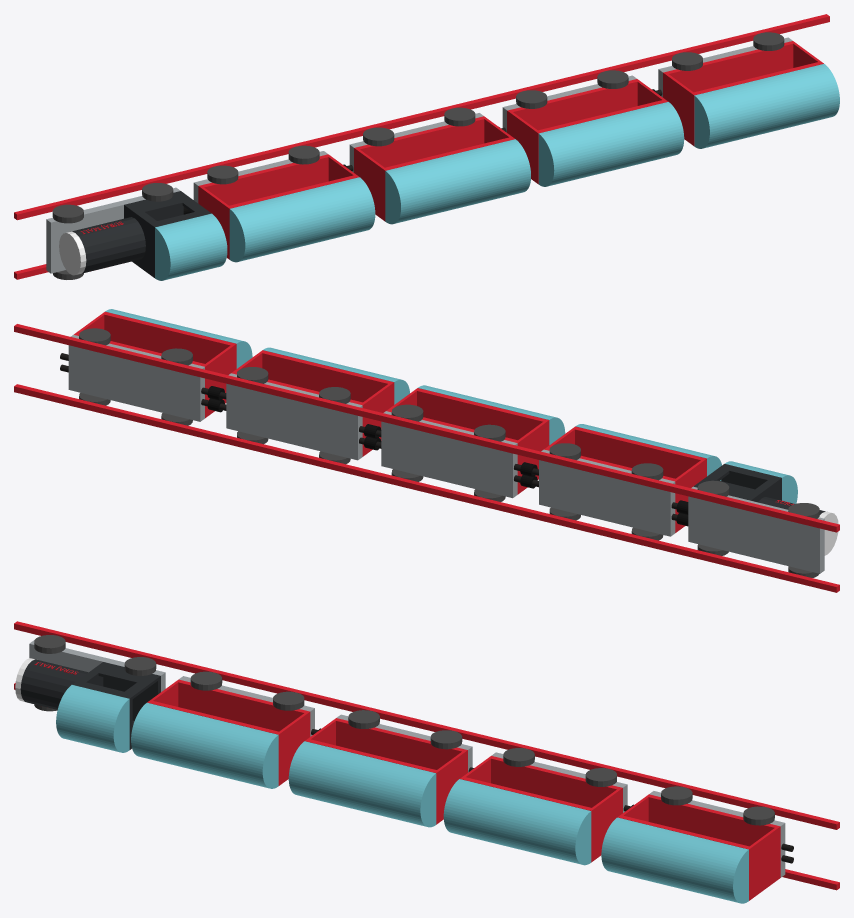
The model's file is tinker.obj.
The picture shows the model from 3 angles, top to bottom: view 1: azimuth 30°, elevation 25°; view 2: azimuth 150°, elevation 25°; view 3: azimuth 330°, elevation 25°; orthographic projection.
Parts seen in each view (by area): view 1: group_0_7720667, group_0_15277357, group_0_5066061, group_0_2829873, group_0_10988977, group_0_16448250; view 2: group_0_15277357, group_0_10988977, group_0_5066061, group_0_7720667, group_0_2829873, group_0_986895, group_0_2039068; view 3: group_0_7720667, group_0_15277357, group_0_5066061, group_0_2829873, group_0_10988977.
Part boxes in pixels (x1,y1,x2,y2): group_0_7720667: [155, 64, 839, 280]; group_0_15277357: [14, 14, 829, 279]; group_0_5066061: [52, 32, 784, 279]; group_0_2829873: [72, 191, 211, 277]; group_0_10988977: [46, 37, 792, 273]; group_0_16448250: [59, 231, 86, 275]; group_0_15277357: [14, 312, 839, 592]; group_0_10988977: [68, 334, 824, 573]; group_0_5066061: [79, 328, 819, 577]; group_0_7720667: [105, 309, 797, 503]; group_0_2829873: [693, 464, 825, 514]; group_0_986895: [207, 386, 688, 526]; group_0_2039068: [60, 353, 677, 520]; group_0_7720667: [56, 685, 748, 903]; group_0_15277357: [14, 621, 839, 900]; group_0_5066061: [34, 635, 774, 825]; group_0_2829873: [20, 659, 160, 749]; group_0_10988977: [29, 640, 785, 877].
Size of the model in its own units: 300 by 23 by 38.
